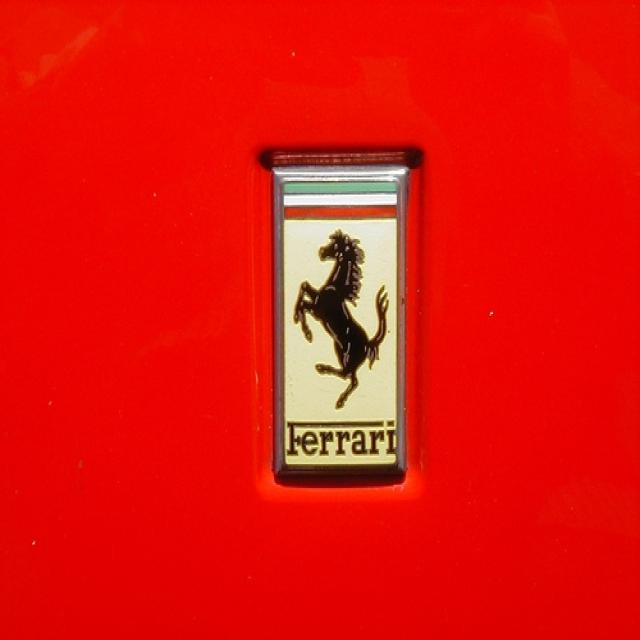ferrari: (280, 174, 403, 471)
